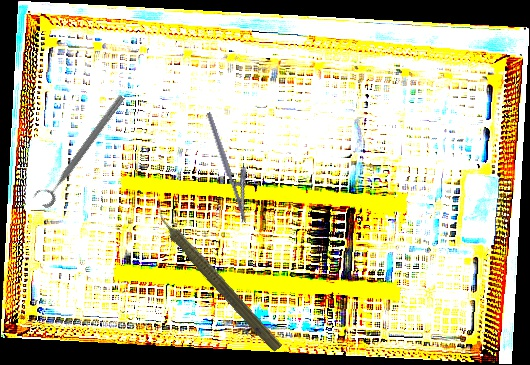Fixation Ring: (30, 87, 129, 211)
Handpiece: (144, 199, 288, 355)
Needle Holder: (206, 107, 262, 224)
